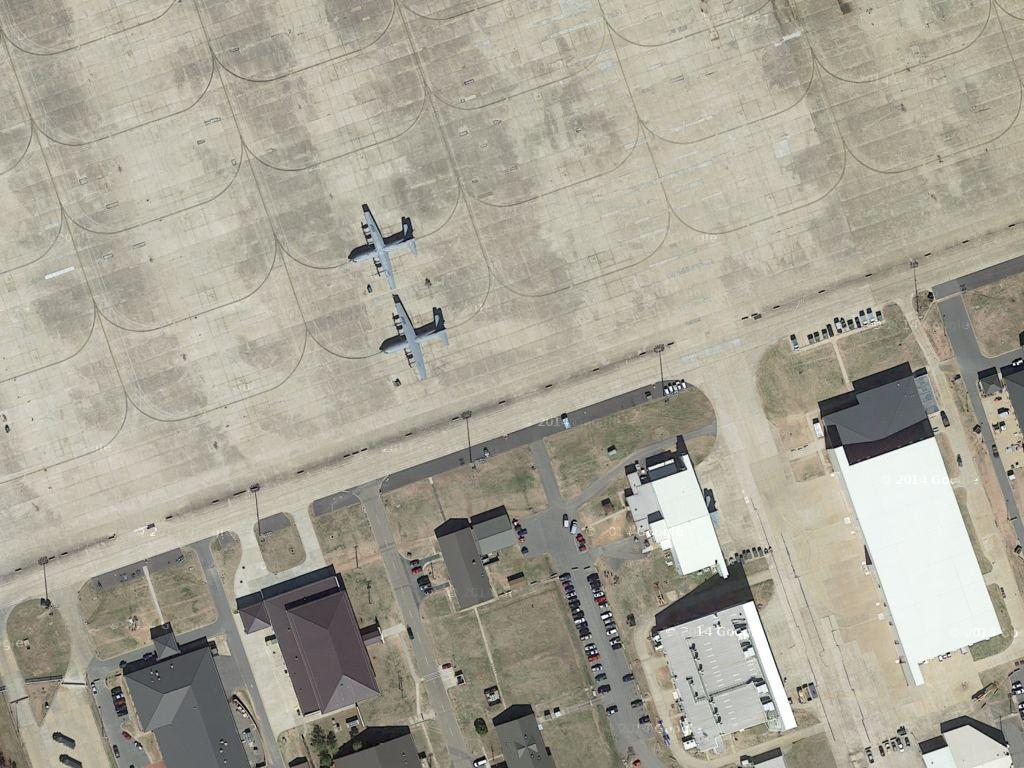C-130: (347, 206, 417, 292), (378, 298, 446, 377)
